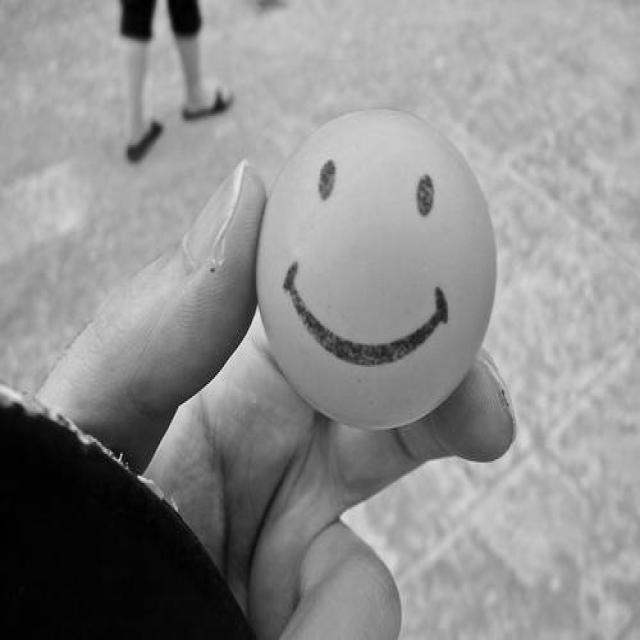ping-pong-ball: (255, 105, 498, 433)
